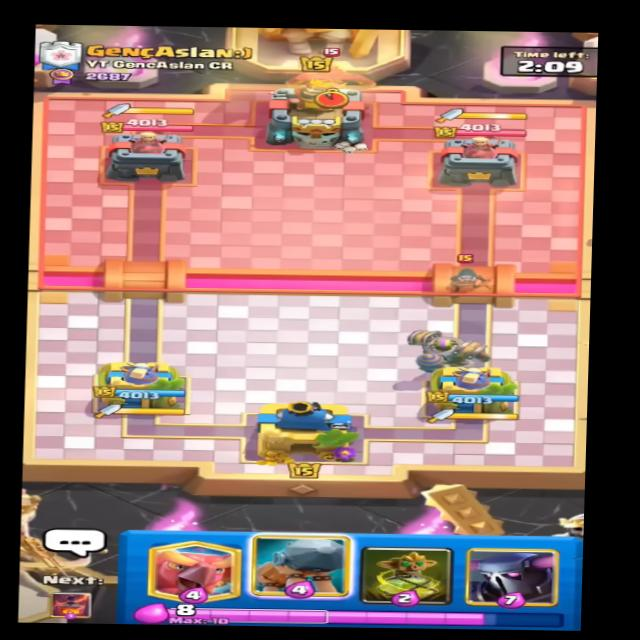Bandit: (433, 252, 505, 292)
Pheonix: (275, 46, 383, 95)
